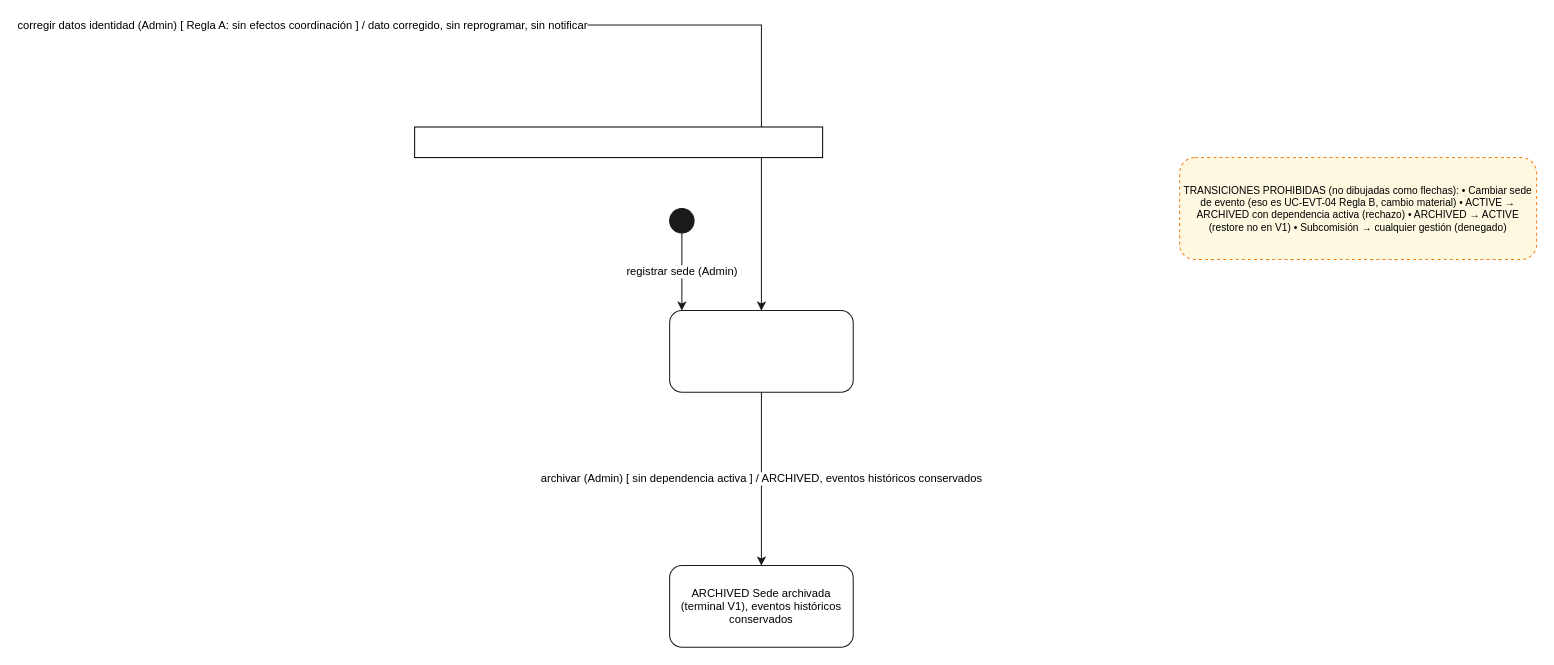
This 1554x665 diagram has some shape labels left out. Each missing label, with the centre of its shape:
ACTIVE Sede creada, identidad estable por ID, disponible para eventos: the point at 761,351
Venue Lifecycle: the point at 618,142
